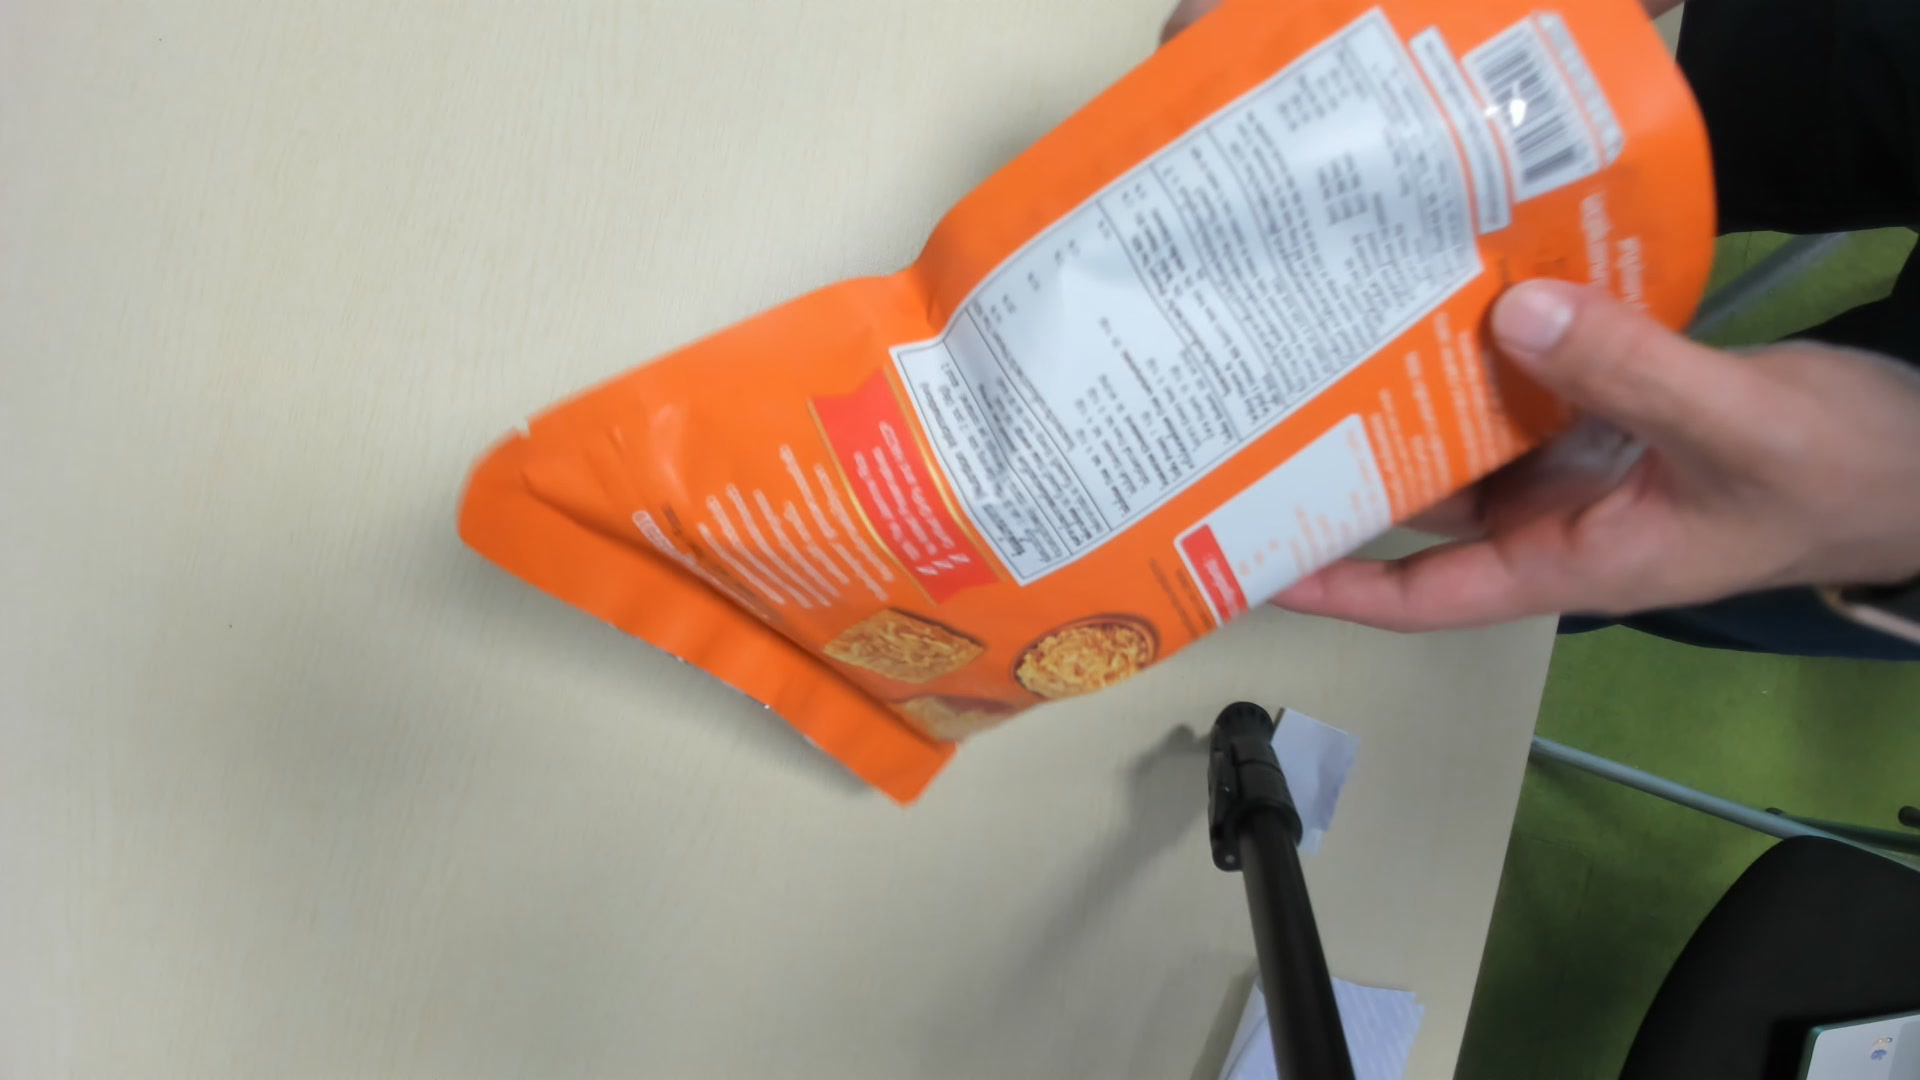PotatoChipsKeropok_0-99g_NonHalal_NonHealthy: (422, 3, 1716, 804)
